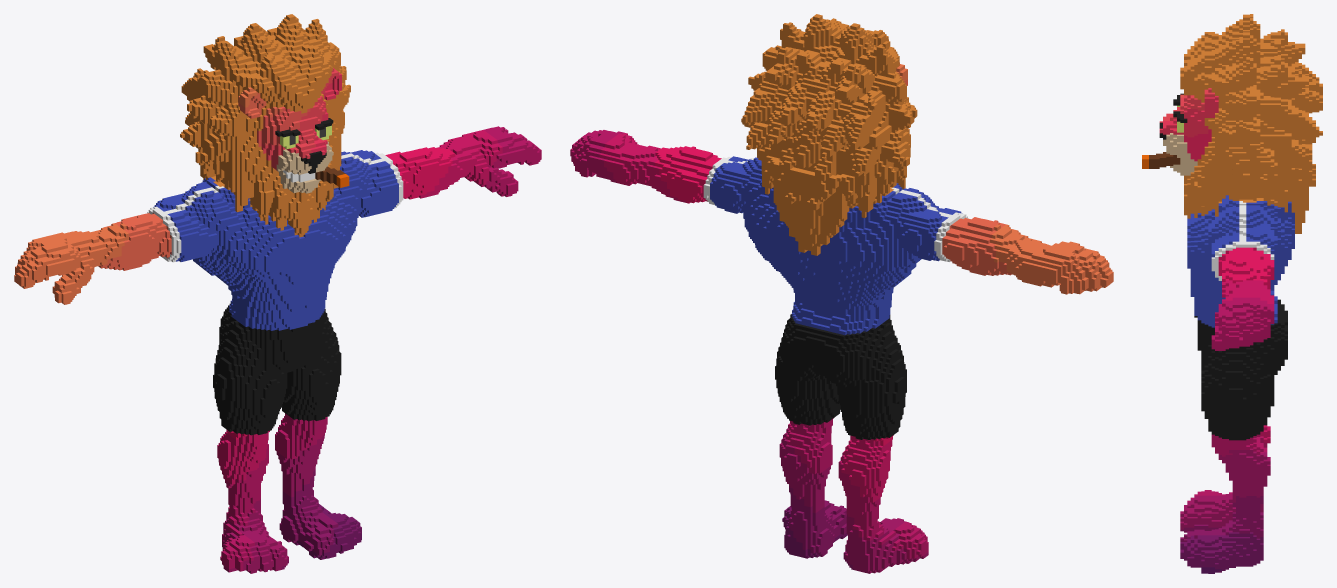
The picture shows the model from 3 angles, left to right: view 1: azimuth 30°, elevation 25°; view 2: azimuth 150°, elevation 25°; view 3: azimuth 270°, elevation 25°; orthographic projection. The views are drawn at different scales.
Visible parts, largest first — view 1: cigar; view 2: cigar; view 3: cigar.
Boxes of the visible parts, left/top/right/bottom form: cigar: left=14, top=14, right=541, bottom=573; cigar: left=570, top=14, right=1113, bottom=573; cigar: left=1142, top=14, right=1322, bottom=573.
Bounding box in the file's own units: 17.2 × 16.5 × 5.2.
5 materials, 5 textured.
